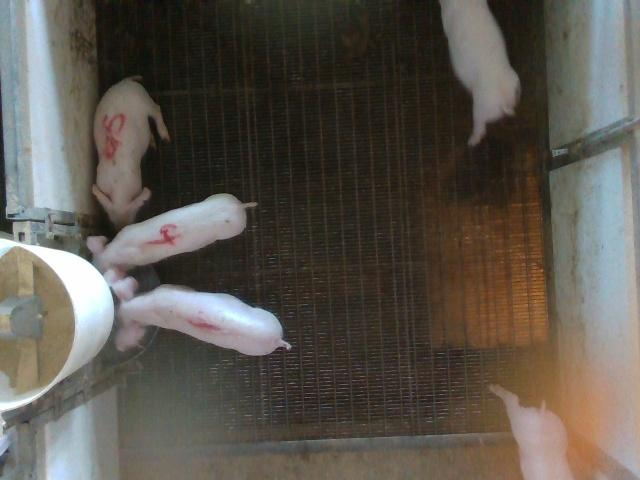pig-1: (112, 278, 291, 355)
pig-4: (88, 194, 256, 281)
pig-5: (92, 76, 170, 229)
